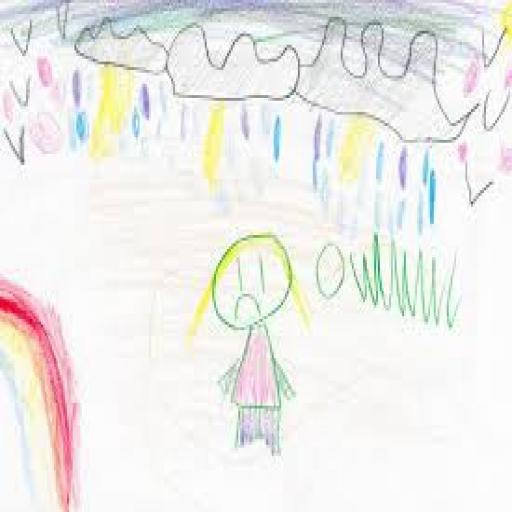person: (186, 229, 312, 463)
